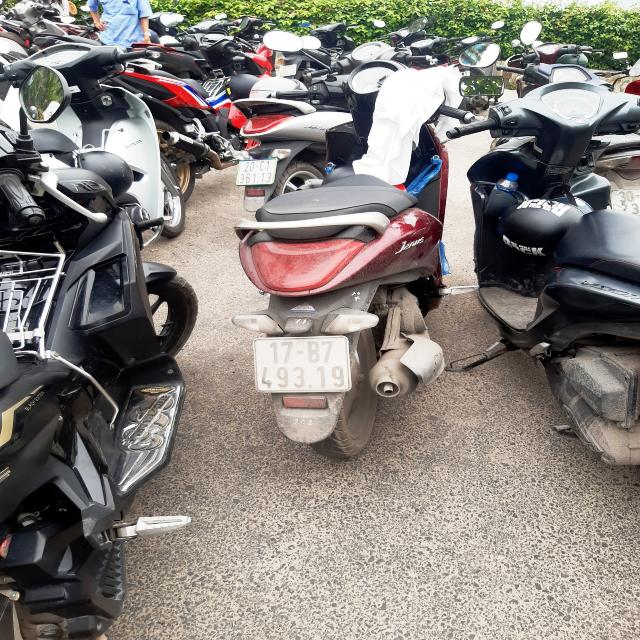license_plate: (241, 331, 361, 401)
